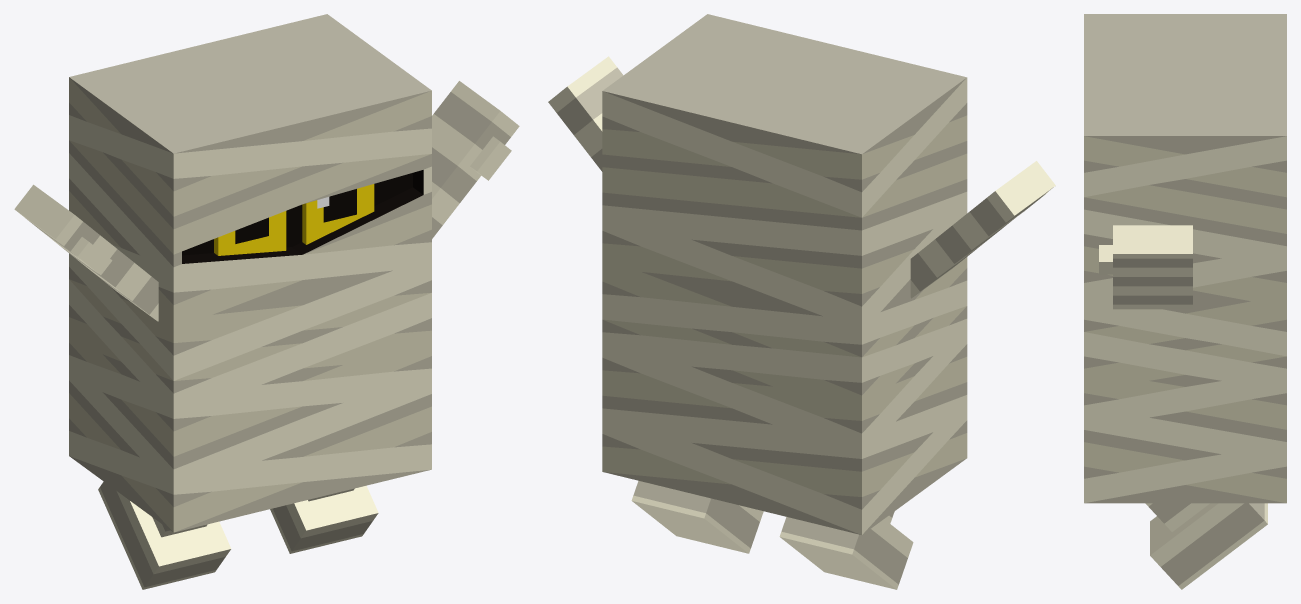
File: Ch_45@Down.FBX
3 renders of one model, left to right at view 1: azimuth 30°, elevation 25°; view 2: azimuth 150°, elevation 25°; view 3: azimuth 270°, elevation 25°, orthographic. The views are drawn at different scales.
Visible parts, largest first — view 1: Ch_45, Ch_45_Hand_R, Ch_45_Leg_L, Ch_45_Hand_L, Ch_45_Leg_R; view 2: Ch_45, Ch_45_Leg_L, Ch_45_Hand_L, Ch_45_Leg_R, Ch_45_Hand_R; view 3: Ch_45, Ch_45_Hand_R, Ch_45_Leg_R.
Part boxes in pixels (x1,y1,x2,y2): Ch_45: [69, 14, 431, 532]; Ch_45_Hand_R: [432, 81, 519, 238]; Ch_45_Leg_L: [98, 481, 231, 589]; Ch_45_Hand_L: [14, 184, 158, 321]; Ch_45_Leg_R: [270, 485, 378, 553]; Ch_45: [602, 14, 967, 534]; Ch_45_Leg_L: [779, 511, 913, 589]; Ch_45_Hand_L: [910, 161, 1055, 298]; Ch_45_Leg_R: [631, 480, 763, 553]; Ch_45_Hand_R: [548, 56, 623, 171]; Ch_45: [1084, 14, 1286, 503]; Ch_45_Hand_R: [1099, 225, 1192, 309]; Ch_45_Leg_R: [1145, 503, 1267, 589].
Bounding box in the file's own units: 11.17 × 10.99 × 4.36.
